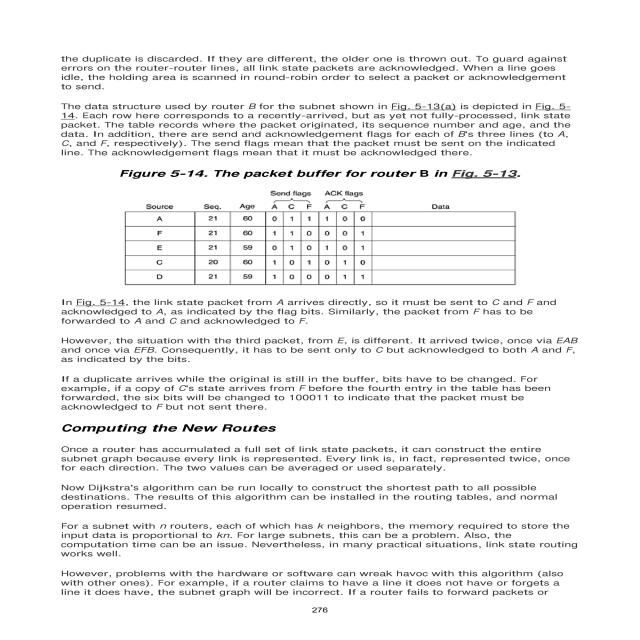diagram: (62, 158, 572, 292)
